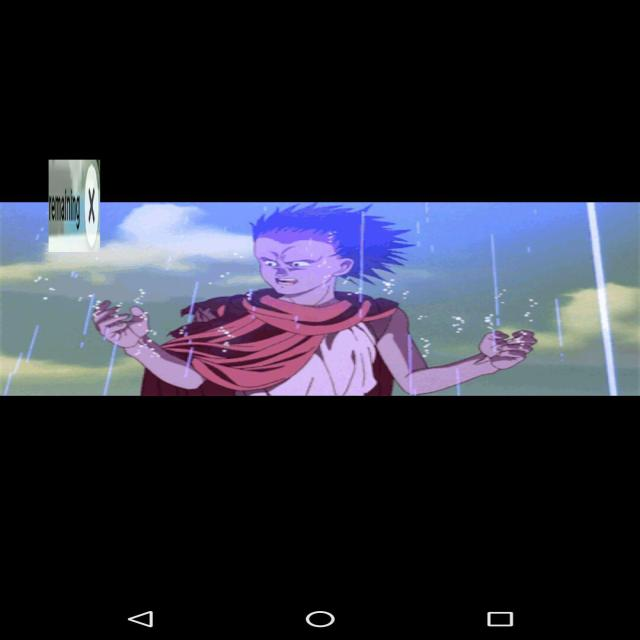misdirection: (49, 160, 100, 252)
